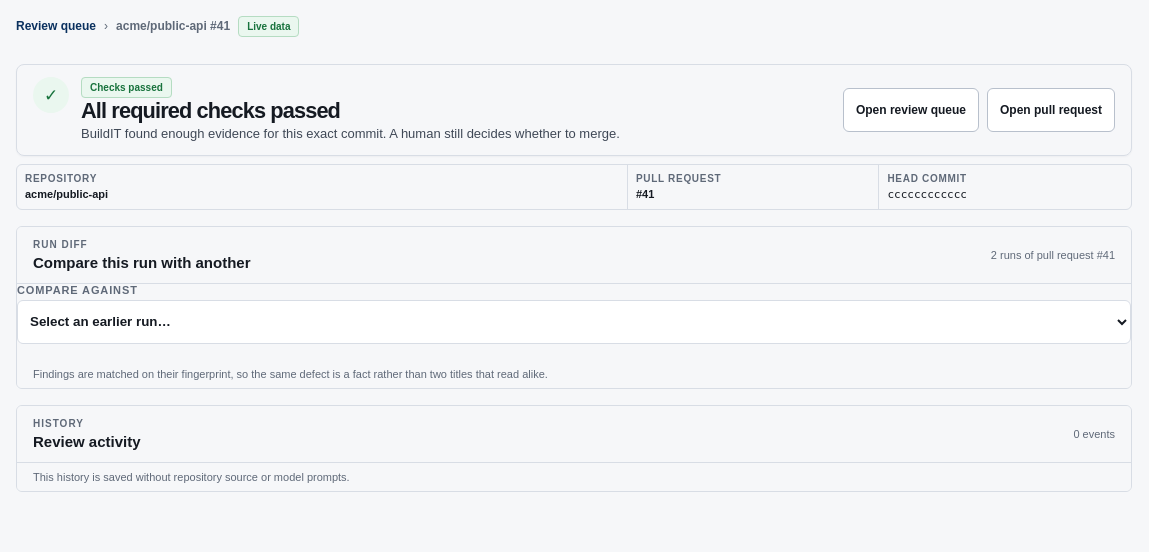
Test: comparing two runs of one pull request › says in a sentence when the two runs cannot be compared
Select "11/14/2023, 10:13:20 PM · aaaaaaa · Changes requested · $0.4000" in the dropdown labelled "Compare against" at (574, 322), box [17, 300, 1131, 344]
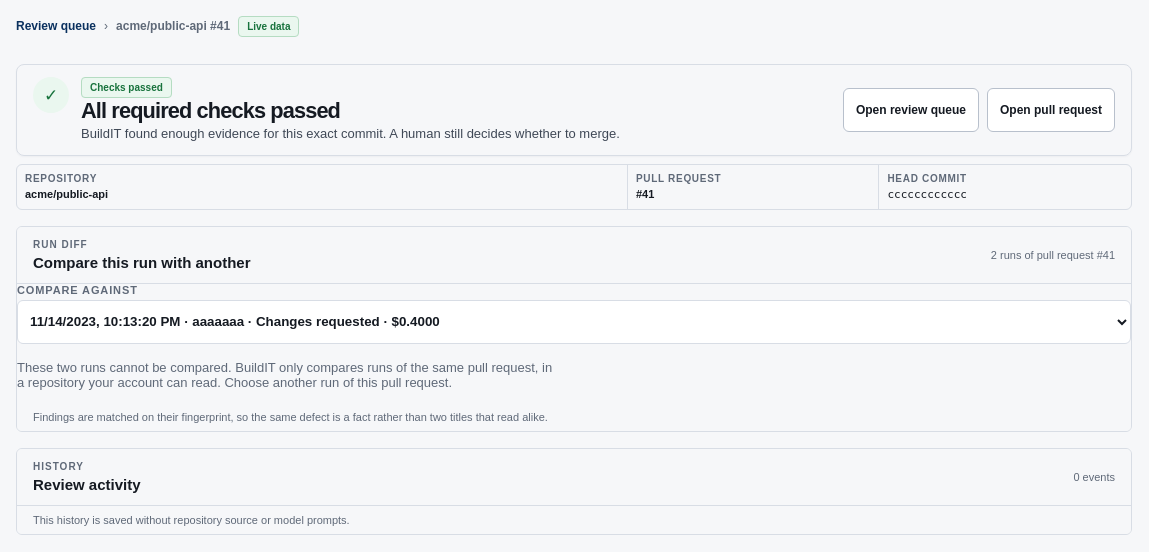
Check: the text "These two runs cannot be compared" shows "runs of the same pull request", box [17, 360, 552, 390]
